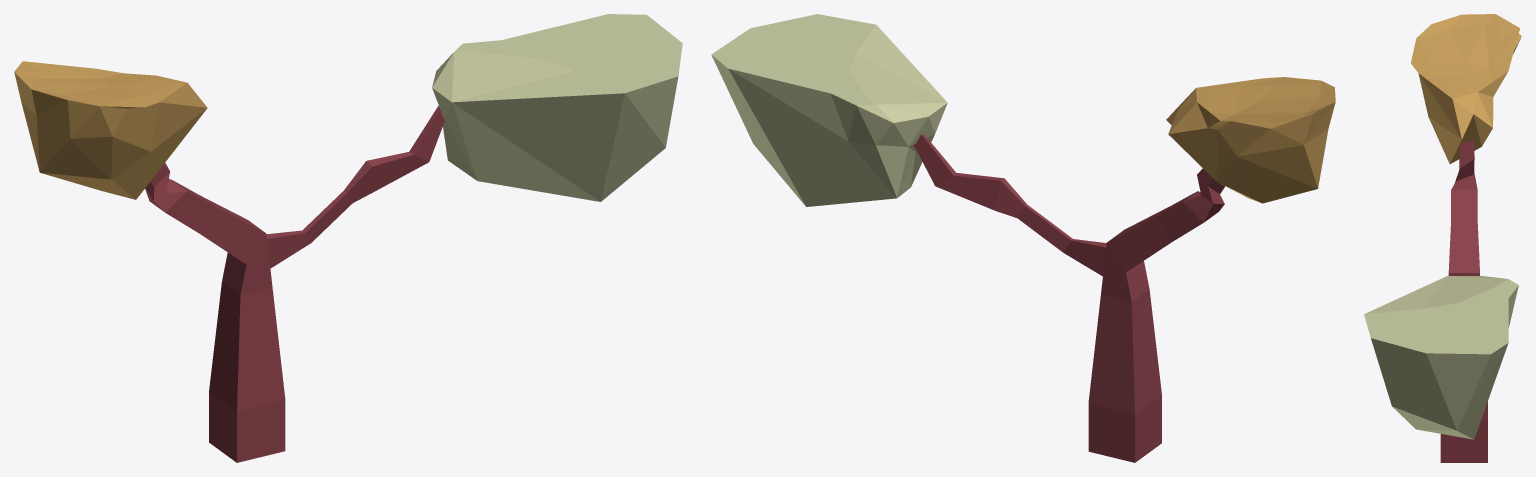
The model's file is tree-platform-02 1.fbx.
3 views of the same model, side by side, from view 1: azimuth 30°, elevation 25°; view 2: azimuth 150°, elevation 25°; view 3: azimuth 270°, elevation 25° (orthographic). The views are drawn at different scales.
Visible parts, largest first — view 1: Bush_02, Tree_02, Bush; view 2: Bush_02, Tree_02, Bush; view 3: Bush_02, Bush, Tree_02.
Boxes of the visible parts, <box> form: Bush_02: <box>432,14,682,201</box>; Tree_02: <box>145,106,444,462</box>; Bush: <box>14,61,207,199</box>; Bush_02: <box>711,14,947,206</box>; Tree_02: <box>913,134,1225,462</box>; Bush: <box>1166,77,1335,203</box>; Bush_02: <box>1364,276,1518,439</box>; Bush: <box>1411,14,1521,163</box>; Tree_02: <box>1440,139,1487,462</box>.
Bounding box in the file's own units: 2063 × 1289 × 527.
